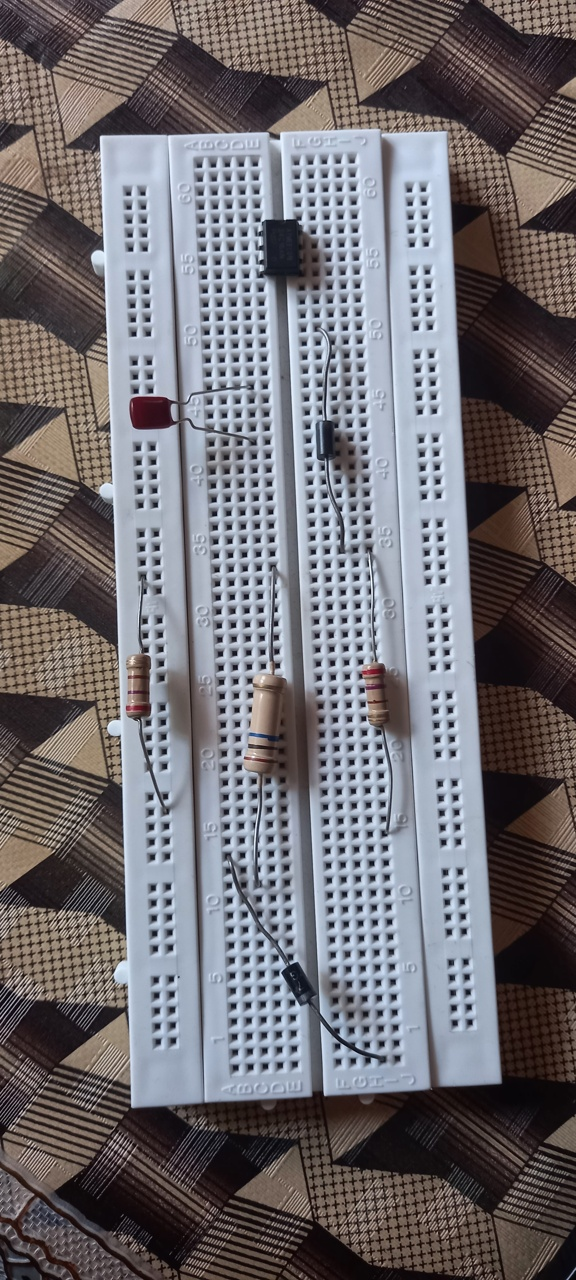capacitor: (129, 393, 174, 430)
resistor: (242, 672, 287, 774), (362, 662, 391, 728), (126, 654, 154, 718)
